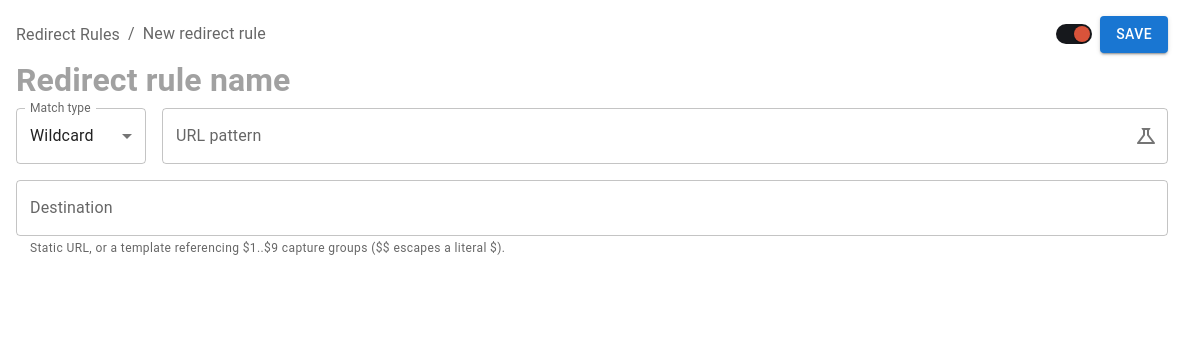
Test: RedirectRuleEditorPage › create mode › shows the redirect-loop warning live as the user types a self-matching pattern
Type "Loop rule" into the field with placeholder "Redirect rule name" at [592, 80], box top-left (16, 52), bottom-right (1168, 108)
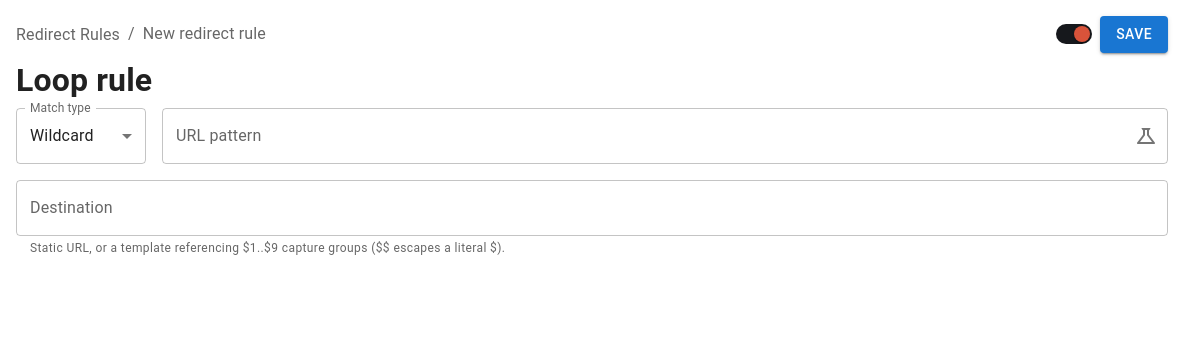
Type "*" into the field labelled "URL pattern" at [640, 136], box top-left (162, 108), bottom-right (1118, 164)
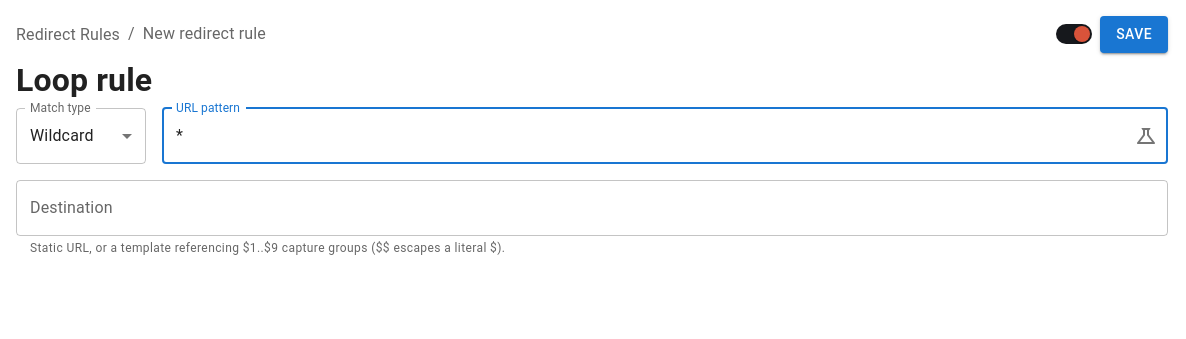
Type "https://example.com/sample" into the field labelled "Destination" at [592, 208], box top-left (16, 180), bottom-right (1168, 236)
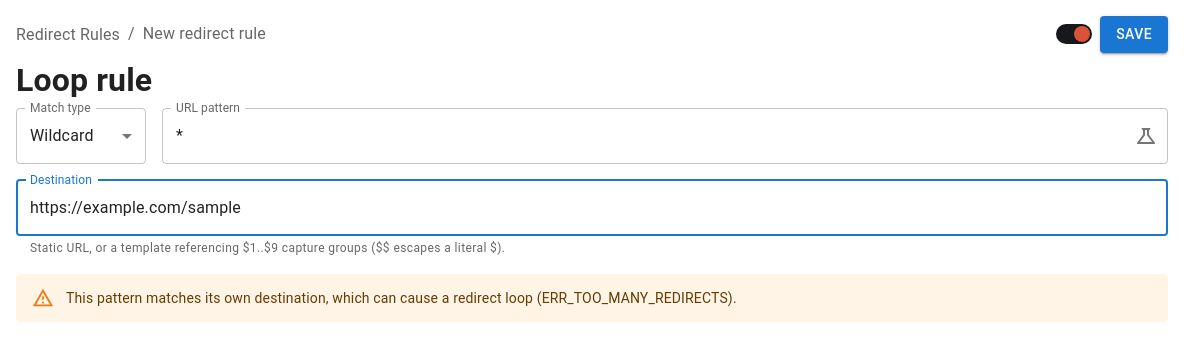
expect the text "This pattern matches its own destination" is shown: met, box top-left (66, 290), bottom-right (737, 306)
